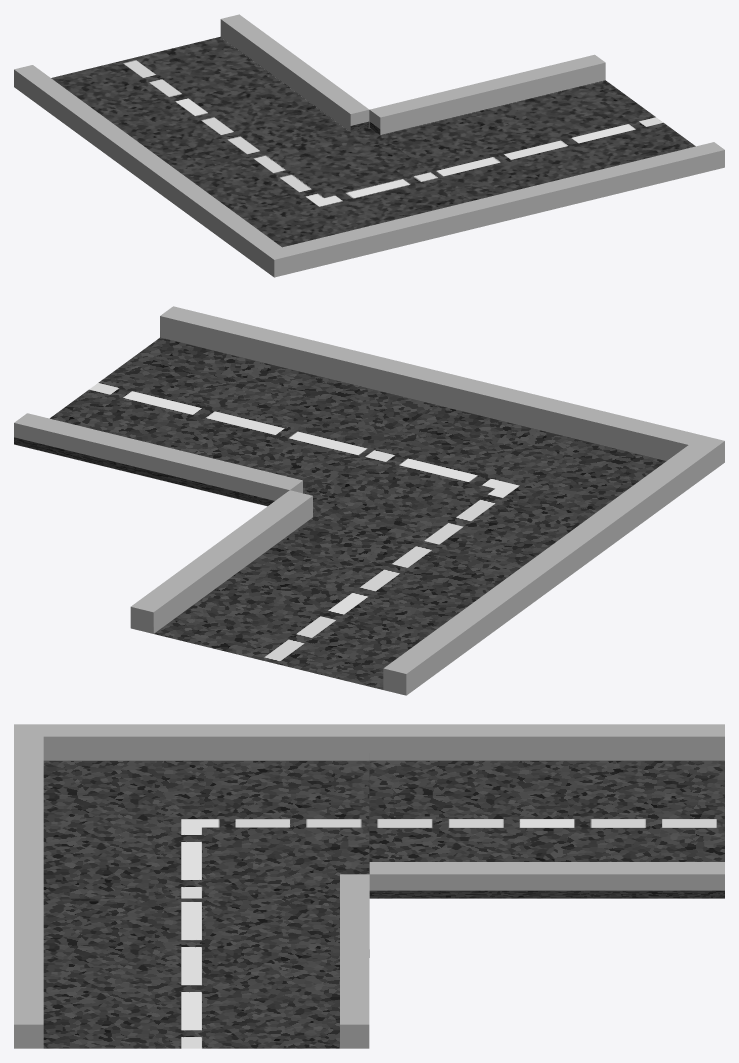
Rendered from RoadTurn.fbx.
The picture shows the model from 3 angles, top to bottom: view 1: azimuth 30°, elevation 25°; view 2: azimuth 150°, elevation 25°; view 3: azimuth 270°, elevation 25°; orthographic projection. The views are drawn at different scales.
Parts seen in each view (by area): view 1: RoadTurn; view 2: RoadTurn; view 3: RoadTurn.
Boxes of the visible parts, bbox=[...] form: RoadTurn: bbox=[14, 14, 724, 277]; RoadTurn: bbox=[14, 306, 724, 695]; RoadTurn: bbox=[14, 724, 724, 1048].
Bounding box in the file's own units: 80 × 3 × 80.
